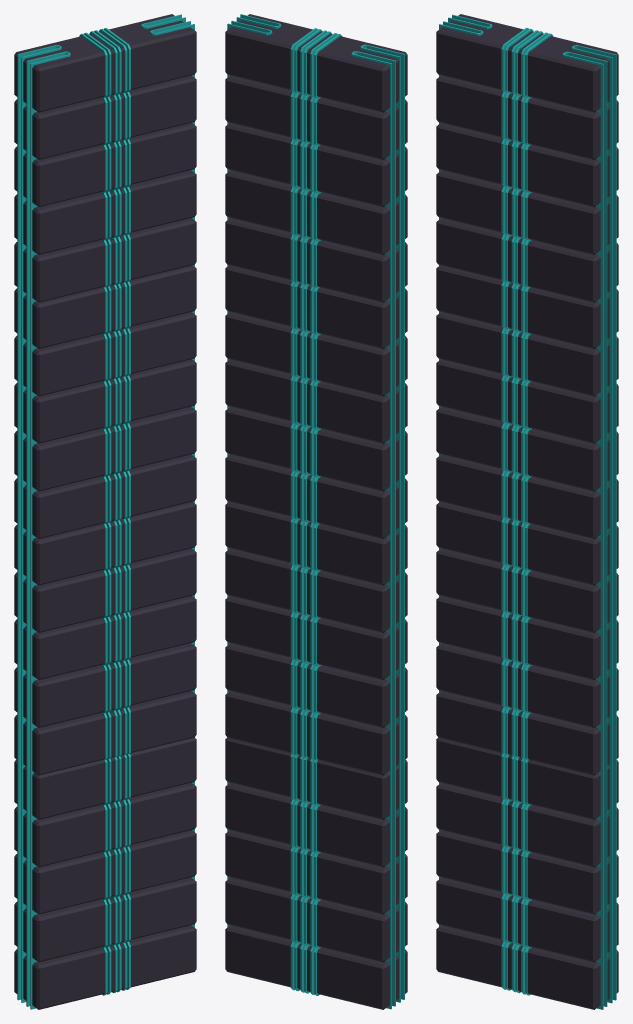
File: wall gen 3.fbx
3 renders of one model, left to right at view 1: azimuth 30°, elevation 25°; view 2: azimuth 150°, elevation 25°; view 3: azimuth 330°, elevation 25°, orthographic.
Visible parts, largest first — view 1: polySurface1501; view 2: polySurface1501; view 3: polySurface1501.
Boxes of the visible parts, box(x1,y1,x2,y2) form: polySurface1501: box(14, 14, 196, 1009); polySurface1501: box(225, 14, 407, 1009); polySurface1501: box(436, 14, 618, 1009).
Size of the model in its own units: 107 by 588 by 29.86.
